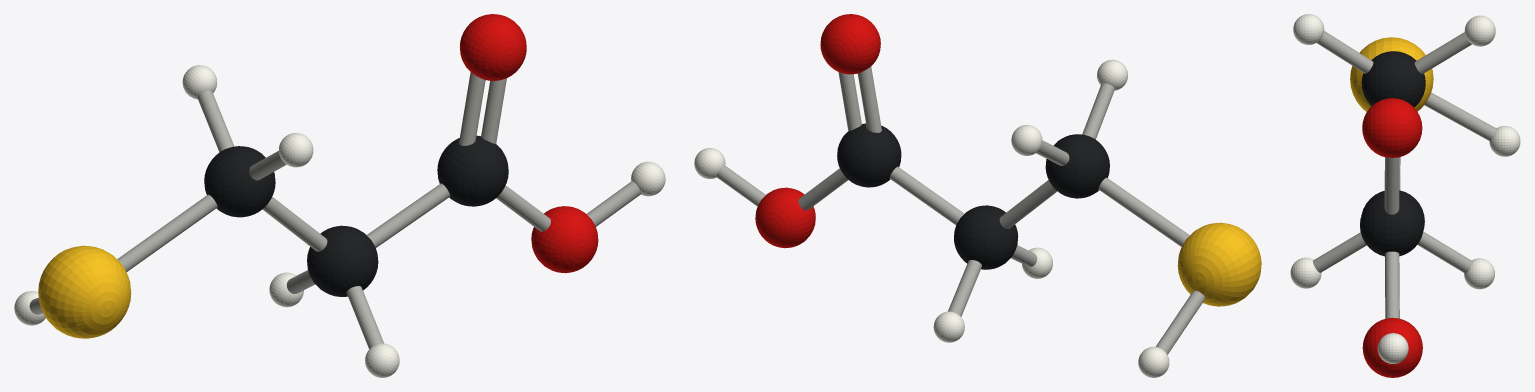
The model's file is beta-mercaptopropionic-acid_CID6514_ball_and_stick.obj.
The picture shows the model from 3 angles, left to right: view 1: azimuth 30°, elevation 25°; view 2: azimuth 150°, elevation 25°; view 3: azimuth 270°, elevation 25°; orthographic projection. The views are drawn at different scales.
Parts seen in each view (by area): view 1: beta_mercaptopropionic_acid_CID6514_ball_and_stick; view 2: beta_mercaptopropionic_acid_CID6514_ball_and_stick; view 3: beta_mercaptopropionic_acid_CID6514_ball_and_stick.
Boxes of the visible parts, bbox=[...] form: beta_mercaptopropionic_acid_CID6514_ball_and_stick: bbox=[14, 14, 665, 377]; beta_mercaptopropionic_acid_CID6514_ball_and_stick: bbox=[694, 14, 1261, 377]; beta_mercaptopropionic_acid_CID6514_ball_and_stick: bbox=[1290, 14, 1520, 377].
Bounding box in the file's own units: 264 × 116 × 94.68.
